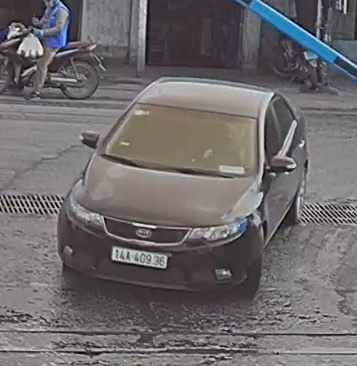vehicle plate: (109, 242, 170, 267)
